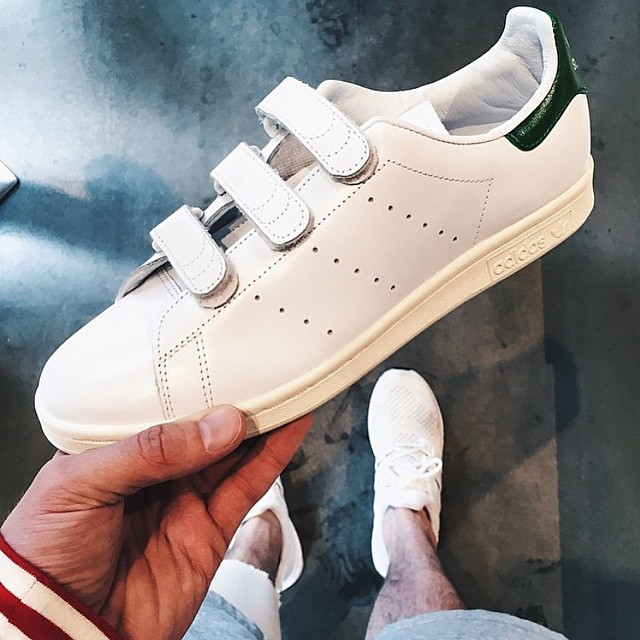sneaker: (350, 358, 458, 579), (201, 465, 320, 602)
